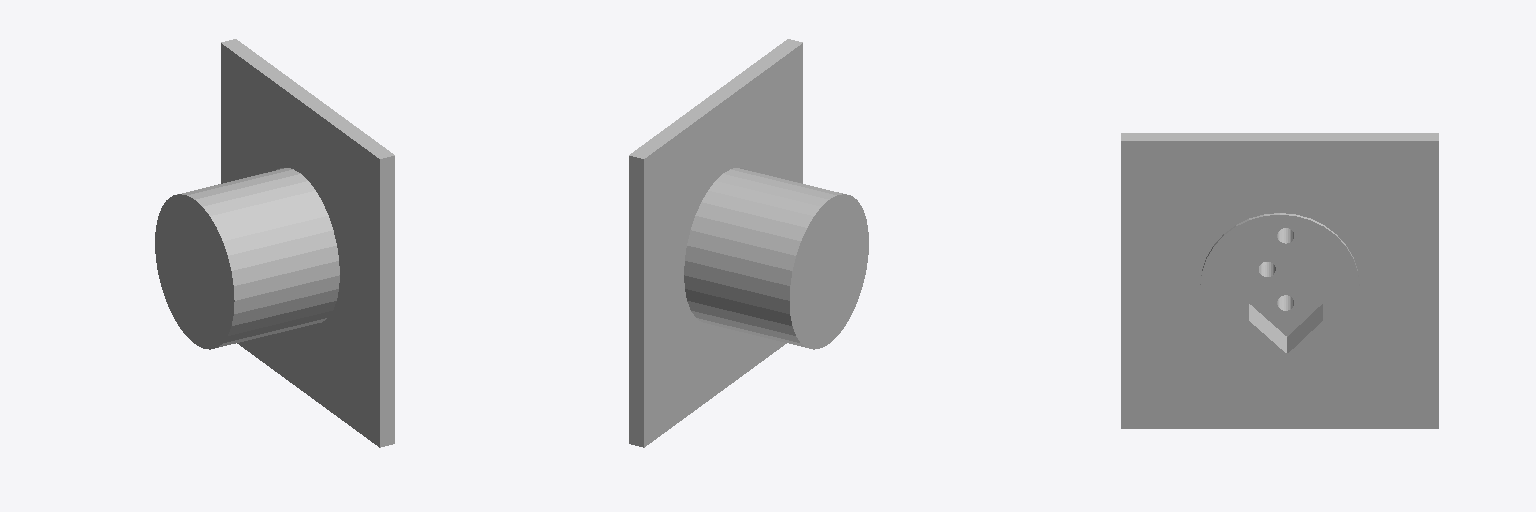
File: simple_socket_three.obj
3 renders of one model, left to right at view 1: azimuth 30°, elevation 25°; view 2: azimuth 150°, elevation 25°; view 3: azimuth 270°, elevation 25°, orthographic.
Size of the model in its own units: 4 by 9 by 9.